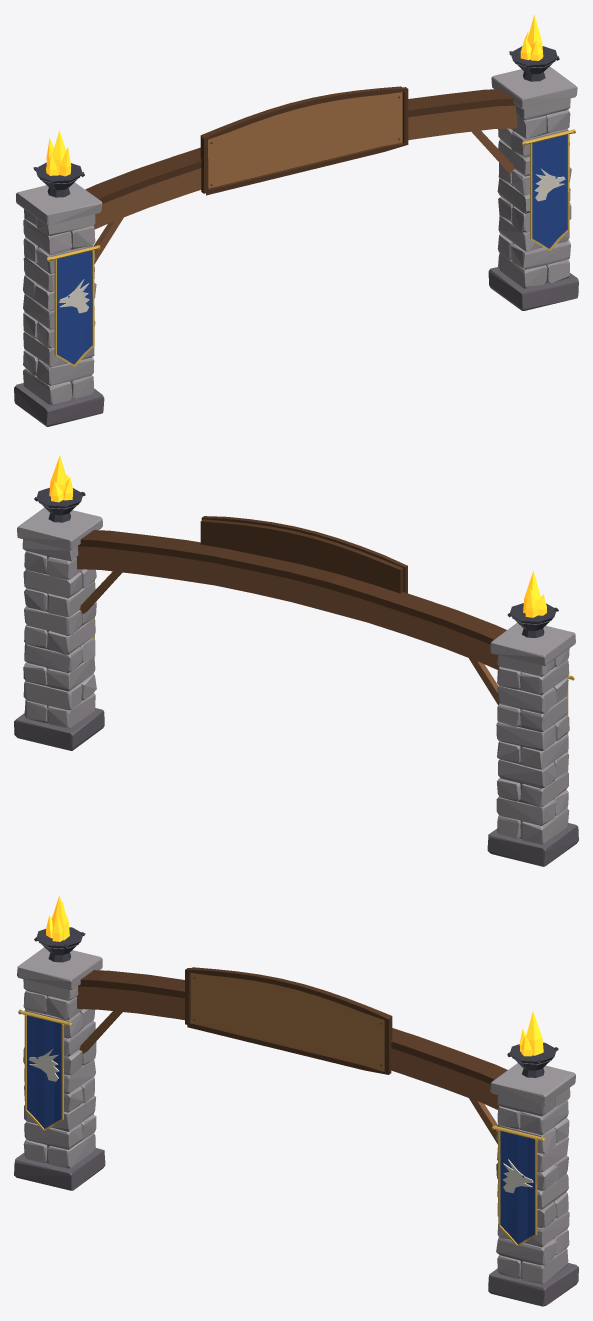
File: base_gate.glb
3 views of the same model, one above another, from view 1: azimuth 30°, elevation 25°; view 2: azimuth 150°, elevation 25°; view 3: azimuth 330°, elevation 25° (orthographic).
Visible parts, largest first — view 1: base_gate, sign_board, fire_L, fire_R; view 2: base_gate, sign_board, fire_R, fire_L; view 3: base_gate, sign_board, fire_L, fire_R.
Boxes of the visible parts, x1,y1,x2,y2 form: base_gate: (14, 46, 578, 426); sign_board: (200, 86, 408, 195); fire_L: (46, 130, 71, 176); fire_R: (520, 14, 543, 60); base_gate: (14, 487, 578, 866); sign_board: (200, 516, 407, 593); fire_R: (49, 456, 73, 502); fire_L: (523, 571, 546, 617); base_gate: (14, 927, 578, 1306); sign_board: (185, 967, 392, 1074); fire_L: (46, 896, 69, 941); fire_R: (519, 1011, 543, 1056).
Size of the model in its own units: 37.3 by 18.62 by 4.1.
